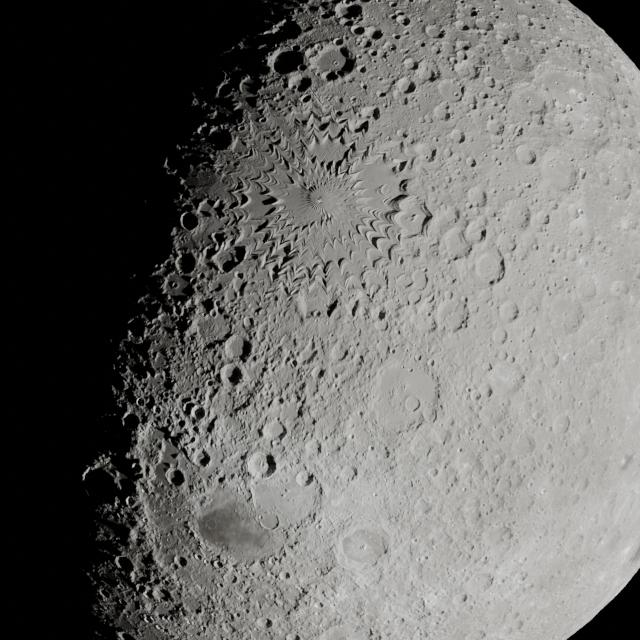crater: (248, 470, 316, 536), (244, 580, 299, 629), (570, 64, 619, 113), (593, 146, 636, 196), (540, 288, 582, 336), (535, 67, 583, 108), (482, 359, 524, 402), (538, 150, 580, 192), (509, 80, 553, 120), (341, 527, 385, 563), (492, 44, 534, 78), (452, 446, 487, 485), (440, 224, 474, 260), (433, 296, 466, 330), (503, 426, 536, 460), (574, 272, 605, 308), (183, 559, 216, 592), (472, 249, 504, 282), (271, 48, 306, 77), (296, 286, 324, 318), (500, 203, 530, 232), (274, 395, 300, 426), (210, 246, 238, 274), (246, 451, 273, 478), (567, 216, 593, 244), (463, 218, 489, 245), (408, 432, 434, 459), (295, 340, 320, 366), (436, 78, 463, 102), (223, 334, 247, 361), (334, 1, 364, 22), (261, 417, 285, 442), (406, 267, 430, 292), (164, 153, 189, 177), (220, 362, 243, 387), (465, 184, 489, 207), (126, 316, 149, 339), (413, 60, 437, 82), (328, 340, 350, 364), (175, 252, 197, 275), (238, 75, 260, 98), (514, 144, 538, 165), (497, 300, 519, 322), (287, 70, 309, 92), (199, 414, 219, 438), (154, 462, 174, 484), (346, 296, 364, 320), (552, 415, 572, 436), (180, 211, 200, 232), (534, 208, 554, 229), (280, 582, 300, 603), (116, 475, 136, 496), (432, 426, 452, 447), (166, 468, 186, 488), (494, 476, 514, 496), (473, 572, 493, 592), (259, 511, 280, 530), (394, 76, 416, 94), (358, 104, 381, 121), (192, 448, 211, 468), (348, 115, 368, 134), (609, 279, 629, 298), (485, 117, 506, 135), (304, 438, 322, 459), (122, 410, 140, 430), (620, 212, 638, 232), (432, 102, 451, 120), (542, 350, 560, 369), (492, 326, 509, 346), (296, 469, 314, 487), (152, 585, 170, 603), (116, 555, 134, 573), (151, 351, 168, 370), (404, 394, 421, 412), (619, 452, 635, 471), (474, 16, 494, 31), (255, 323, 270, 342), (424, 24, 444, 38), (448, 128, 465, 144), (477, 382, 493, 399), (156, 311, 173, 327), (190, 405, 206, 421), (182, 401, 198, 417), (154, 602, 171, 617), (401, 56, 417, 70), (368, 28, 384, 42), (453, 592, 469, 606), (242, 314, 255, 330), (577, 476, 590, 492), (483, 74, 497, 88), (311, 366, 324, 380), (398, 178, 411, 192), (97, 587, 111, 600), (256, 617, 270, 629), (397, 14, 411, 26), (220, 622, 234, 634), (125, 495, 137, 508), (351, 25, 365, 36), (377, 307, 387, 321), (177, 556, 188, 568), (428, 466, 439, 478), (387, 347, 398, 358), (136, 396, 146, 408), (212, 559, 224, 569), (357, 64, 368, 74), (466, 157, 476, 168), (469, 7, 479, 17), (119, 634, 135, 640), (545, 442, 554, 452), (169, 280, 179, 289), (230, 574, 238, 585), (194, 552, 202, 562), (428, 358, 436, 367), (283, 571, 291, 580), (332, 59, 339, 66), (369, 444, 375, 452), (540, 486, 546, 494)
rock: (616, 513, 640, 568), (270, 18, 303, 43), (203, 127, 232, 153), (334, 52, 355, 77), (184, 519, 199, 539), (325, 297, 339, 318), (165, 424, 178, 442), (347, 464, 359, 480), (245, 558, 260, 569)
